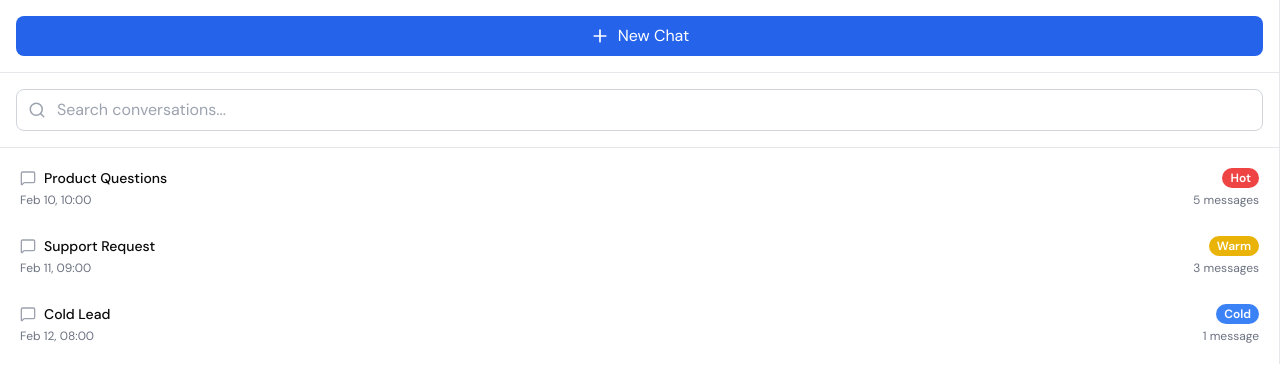
Test: ConversationSidebar › shows "No conversations found" when search has no results
The width and height of the screenshot is (1280, 381).
Type "nonexistent" into the field with placeholder "Search conversations..." at (640, 110), box [16, 89, 1263, 131]
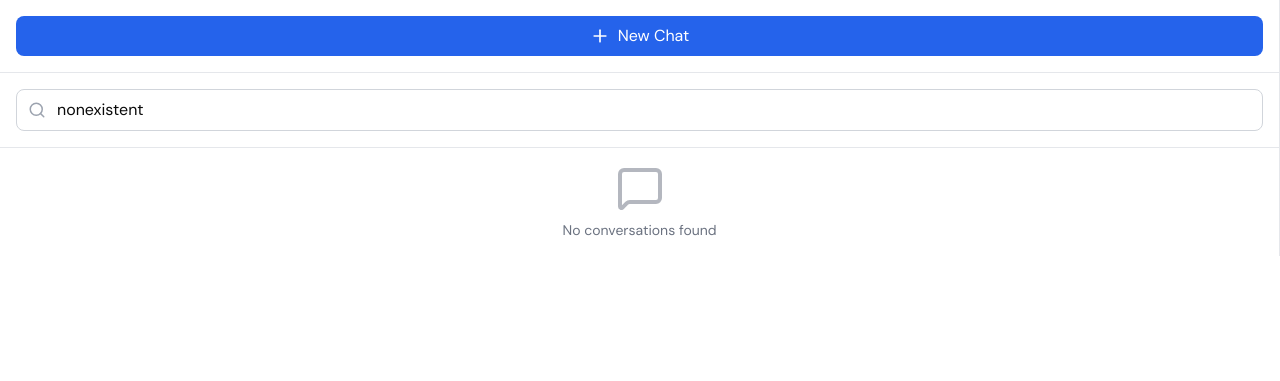
Now the text "No conversations found" is shown, box [562, 220, 717, 240]
